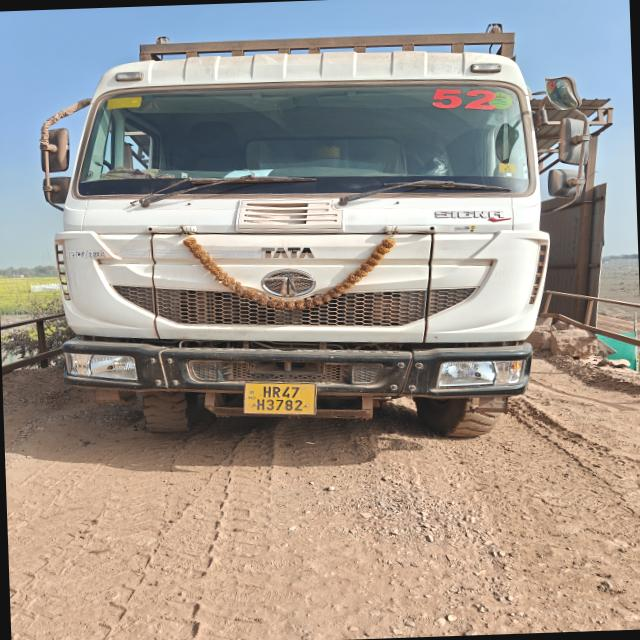license_plate: (244, 382, 316, 415)
